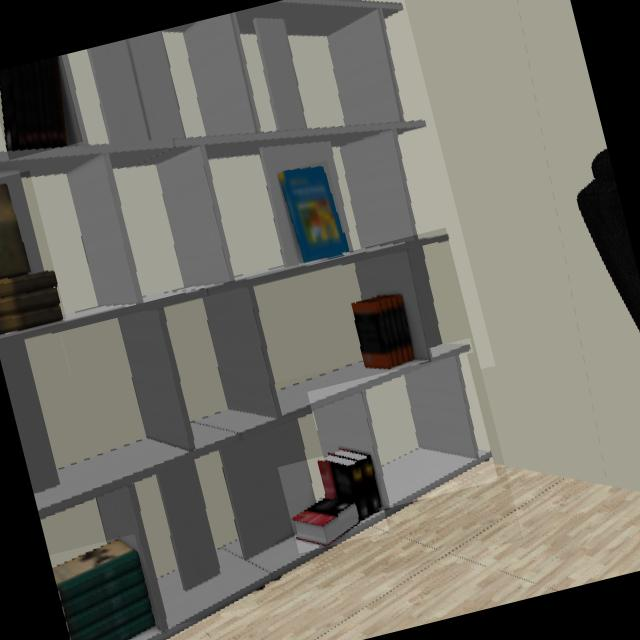book: (52, 540, 157, 640), (0, 184, 63, 334), (291, 450, 381, 548), (278, 167, 349, 264), (0, 55, 69, 151), (351, 294, 414, 370)
bookshelf: (0, 0, 450, 481), (34, 237, 448, 630), (314, 357, 492, 507)
shelf: (278, 362, 412, 415), (429, 343, 472, 361)
